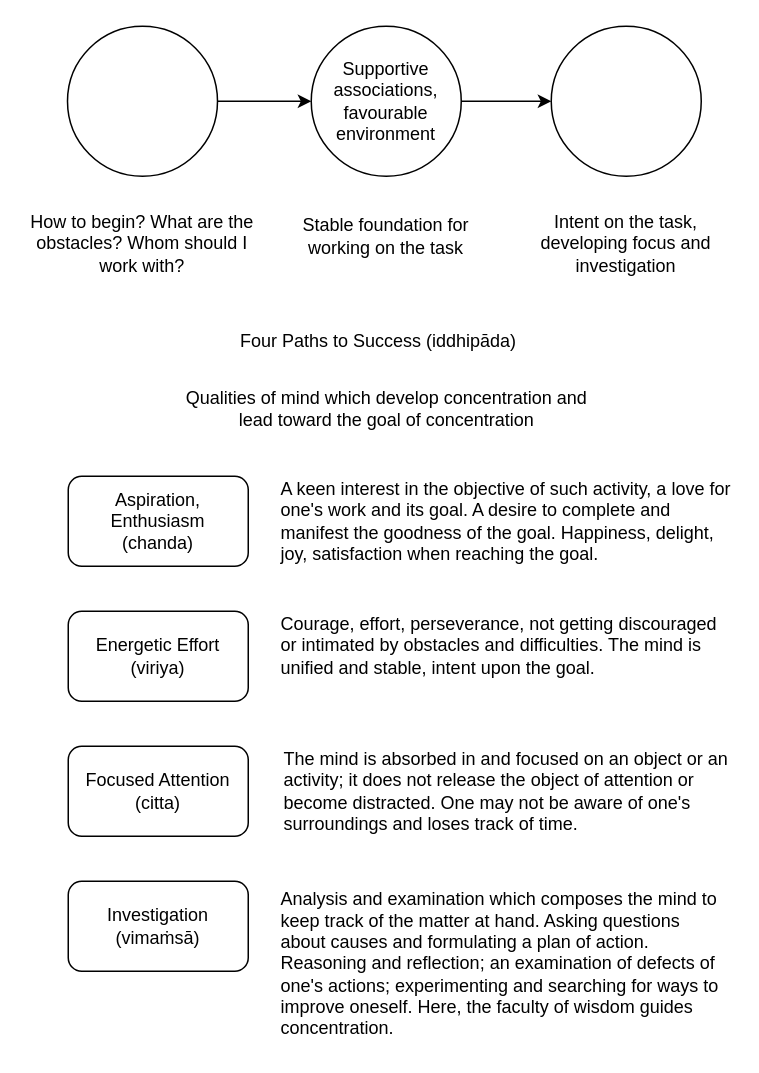
Image size: 759x1073. Some labels were removed from this diagram. The box of each missing label's shape, as (x1, y1, x2, y2) in pixels:
Concentration and Wisdom: (550, 25, 701, 176)
Moral consideration in relations: (66, 25, 218, 176)
